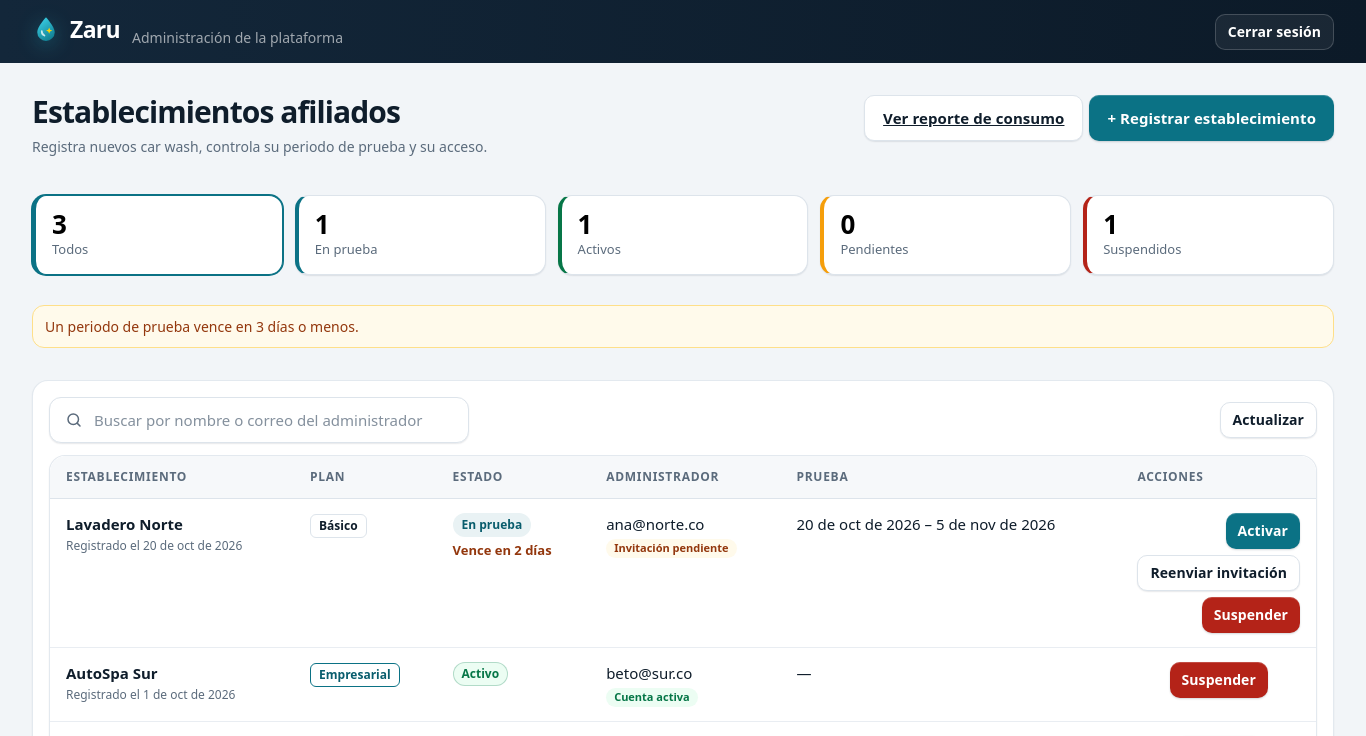
Test: HU-57 · panel de superadministración › CA3: suspender pide confirmación, explica que los datos se conservan y envía el motivo
Click the button "Suspender" in the row of "1 de oct de 2026".
click(1219, 680)  # box [1170,662,1268,698]
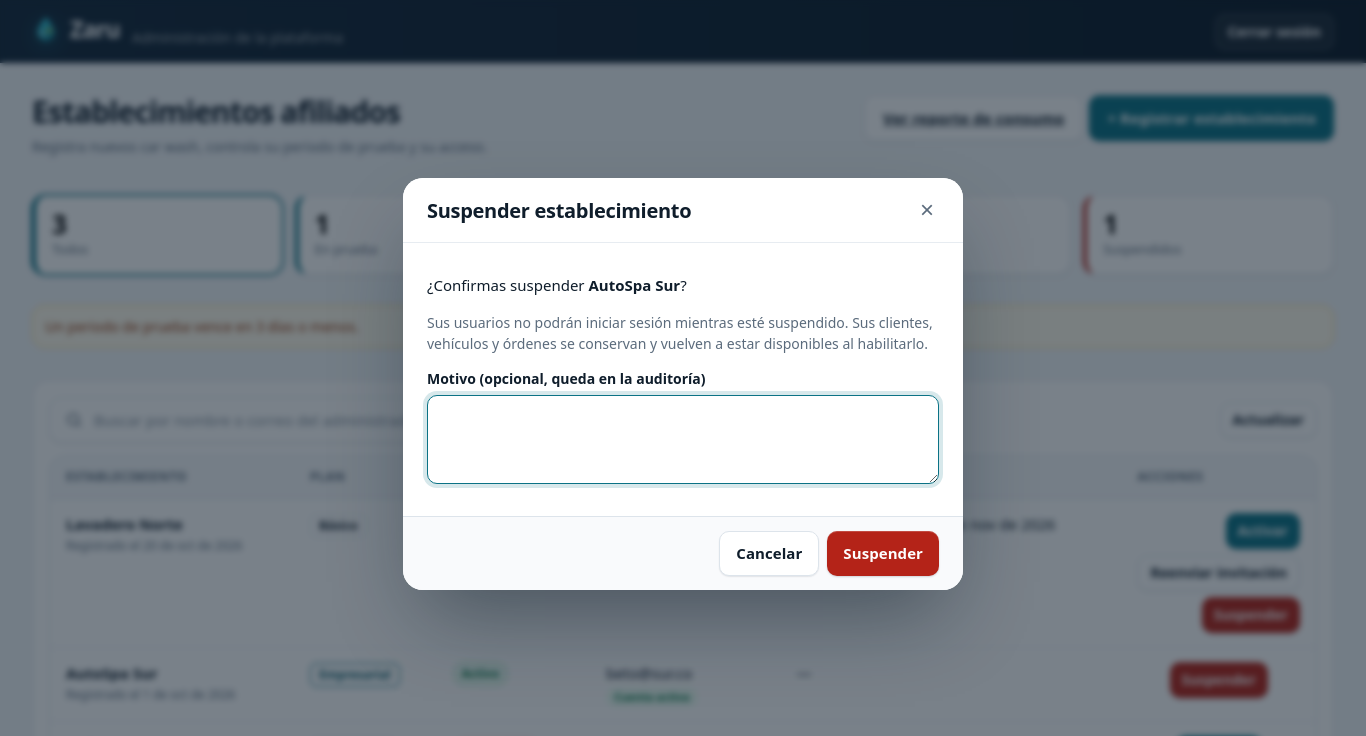
Check: the text "se conservan" is shown, box [427,313,933,353]
Type "Mora en el pago" into the text box labelled "Motivo (opcional, queda en la auditoría)".
click(683, 440); type("Mora en el pago")  # box [427,395,939,484]
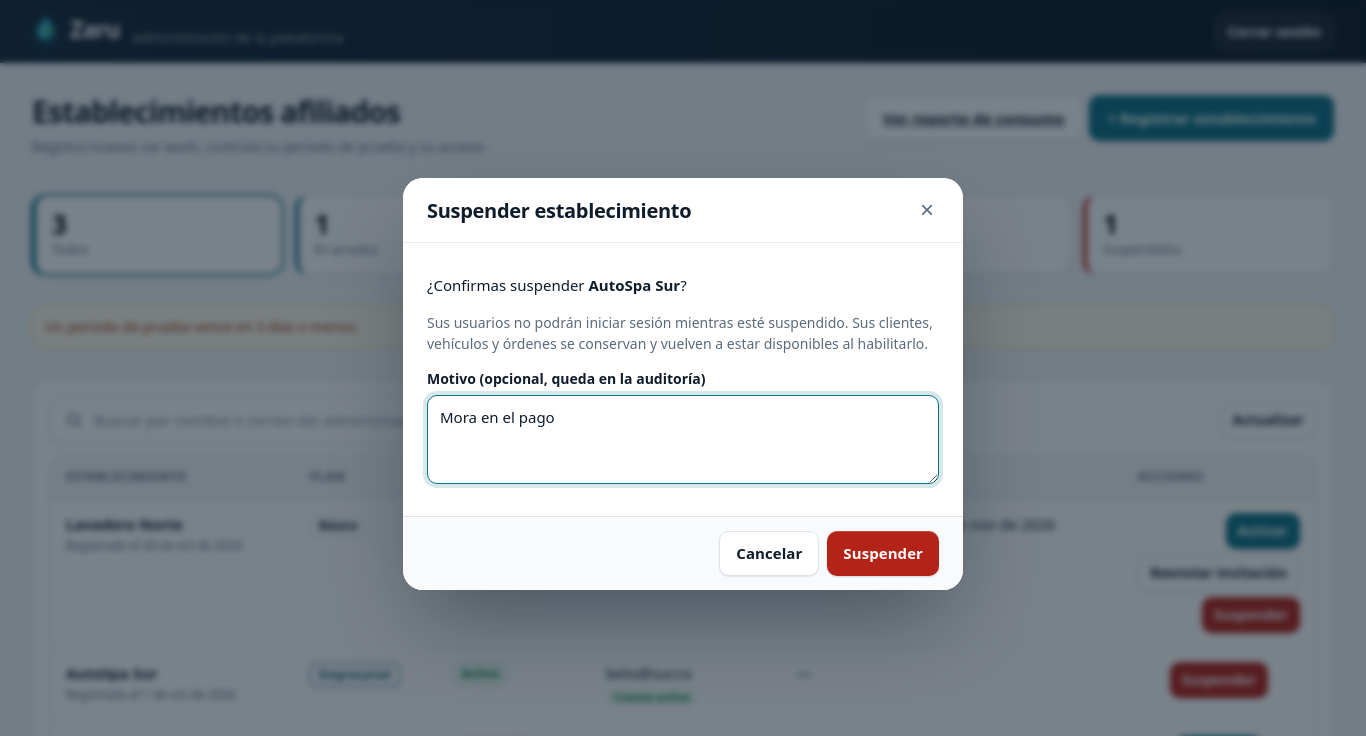
Click the button "Suspender".
click(883, 554)  # box [827,531,939,576]
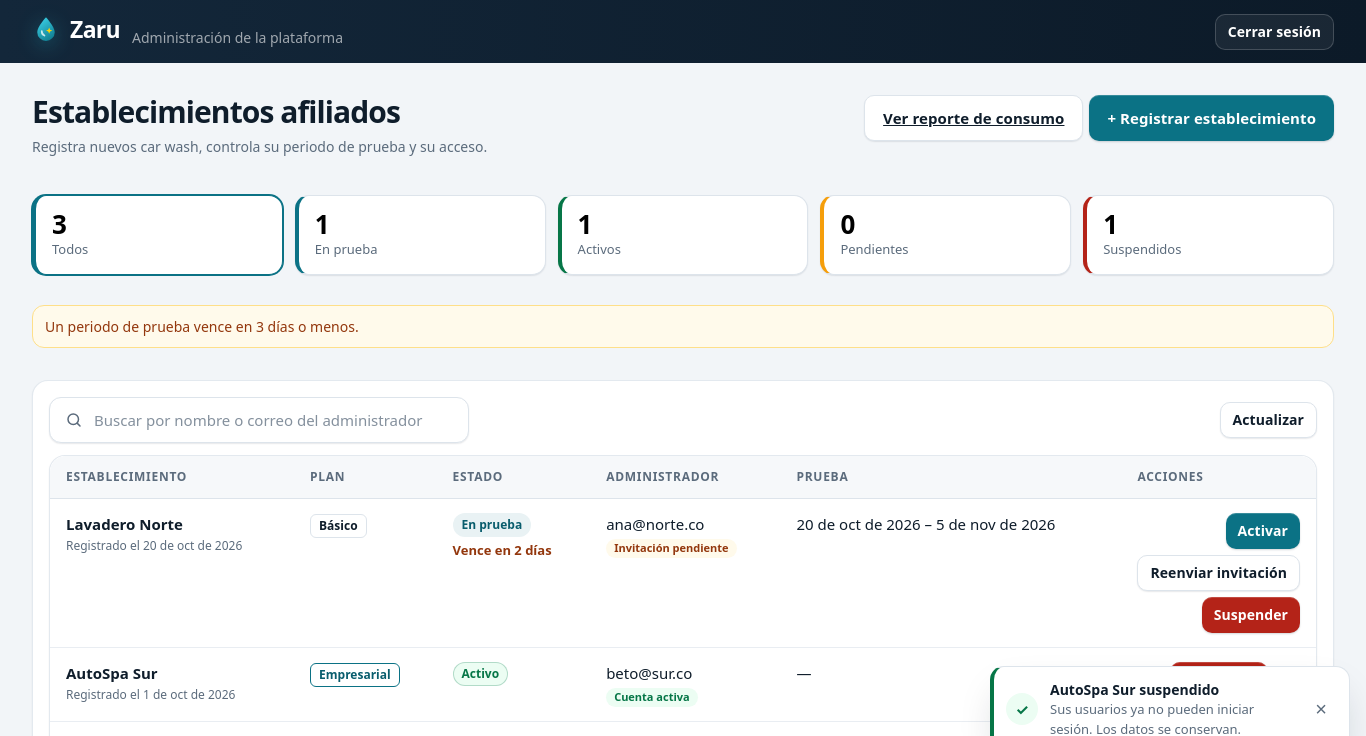
Check: the text "AutoSpa Sur suspendido" is shown, box [1050,680,1219,699]
